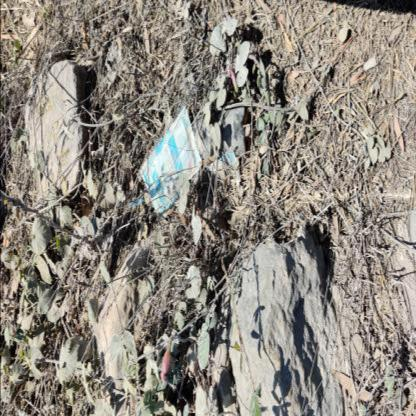Bottle cap: (193, 106, 246, 159)
Carton: (208, 148, 243, 196)
Plastic bag - wrapper: (138, 104, 202, 219)
